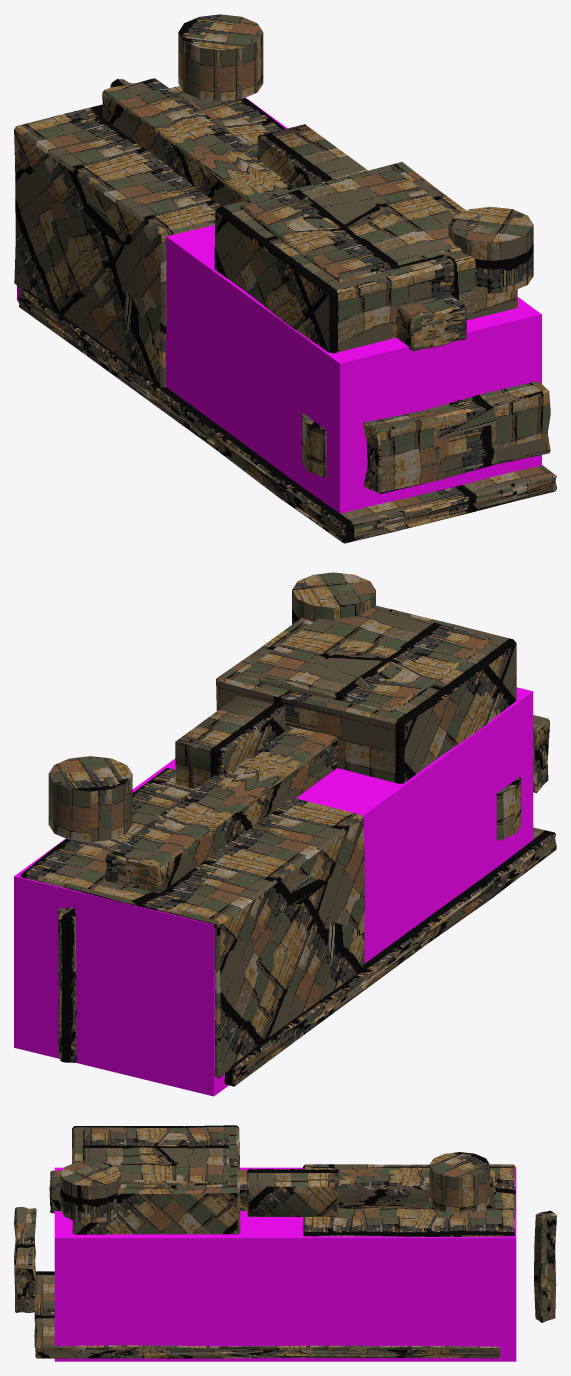
Rendered from prop_car_wreck_02_lod.glb.
The picture shows the model from 3 angles, top to bottom: view 1: azimuth 30°, elevation 25°; view 2: azimuth 150°, elevation 25°; view 3: azimuth 270°, elevation 25°; orthographic projection. The views are drawn at different scales.
Visible parts, largest first — view 1: Car.001, prop_car_wreck_02_lod-col; view 2: Car.001, prop_car_wreck_02_lod-col; view 3: prop_car_wreck_02_lod-col, Car.001.
Part boxes in pixels (<box>): Car.001: <box>14,14,556,543</box>; prop_car_wreck_02_lod-col: <box>17,97,541,513</box>; Car.001: <box>20,572,556,1086</box>; prop_car_wreck_02_lod-col: <box>14,687,533,1096</box>; prop_car_wreck_02_lod-col: <box>54,1167,516,1361</box>; Car.001: <box>14,1125,556,1358</box>.
Size of the model in its own units: 1.83 by 2.03 by 5.37.
Materials: 2 (1 with a texture image).
